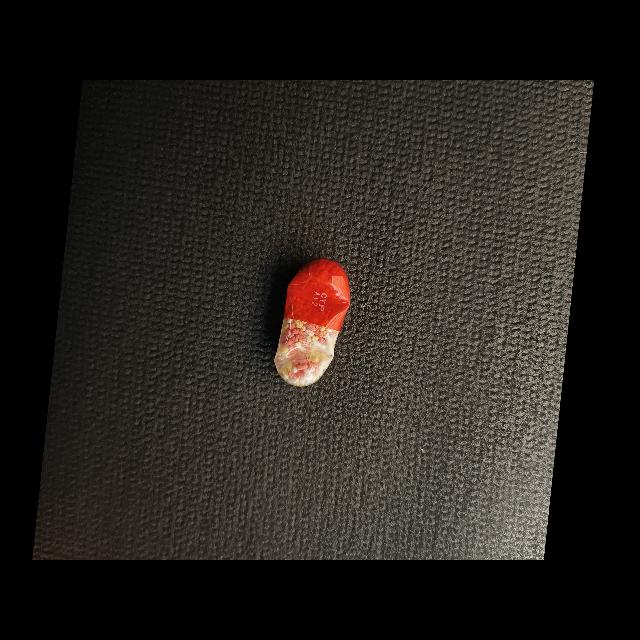Defective Capsule: (274, 258, 350, 387)
